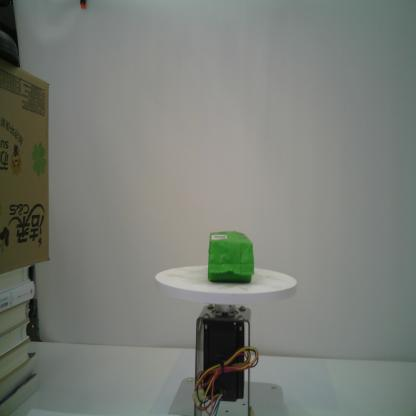Dessert: (207, 230, 255, 284)
